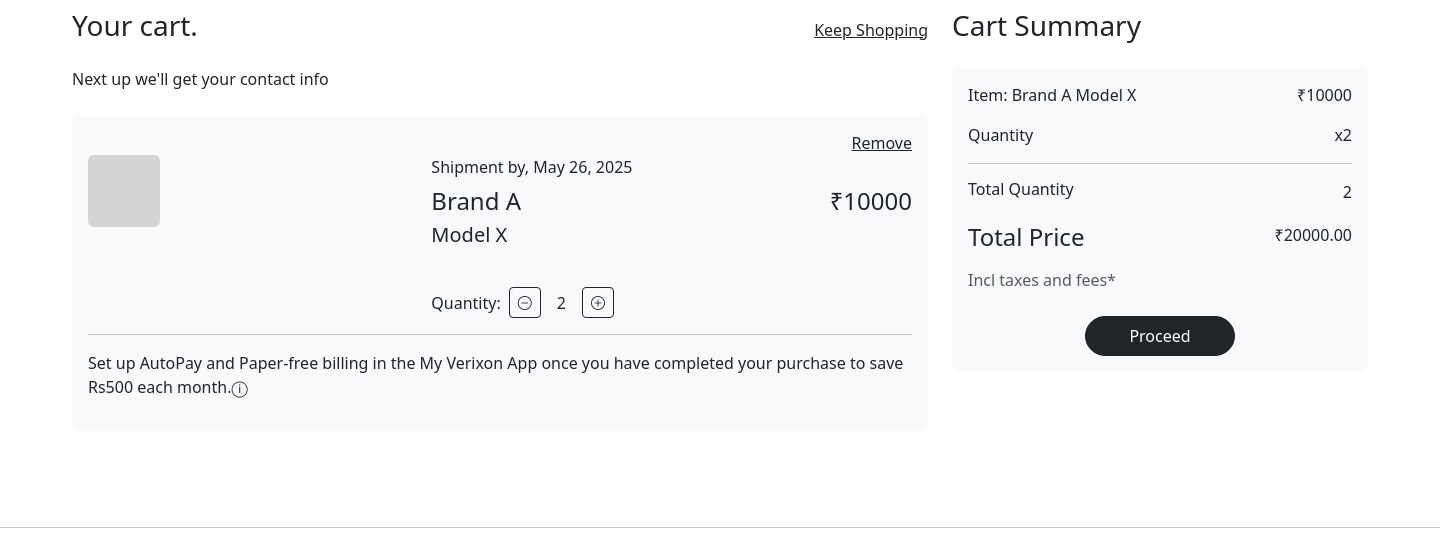
Test: Cart Component › should remove item from cart when 'Remove' button is clicked
This screenshot has width=1440, height=545.
Click the 'Remove' button
Click the link "Remove" at (882, 143), box top-left (852, 131), bottom-right (912, 155)
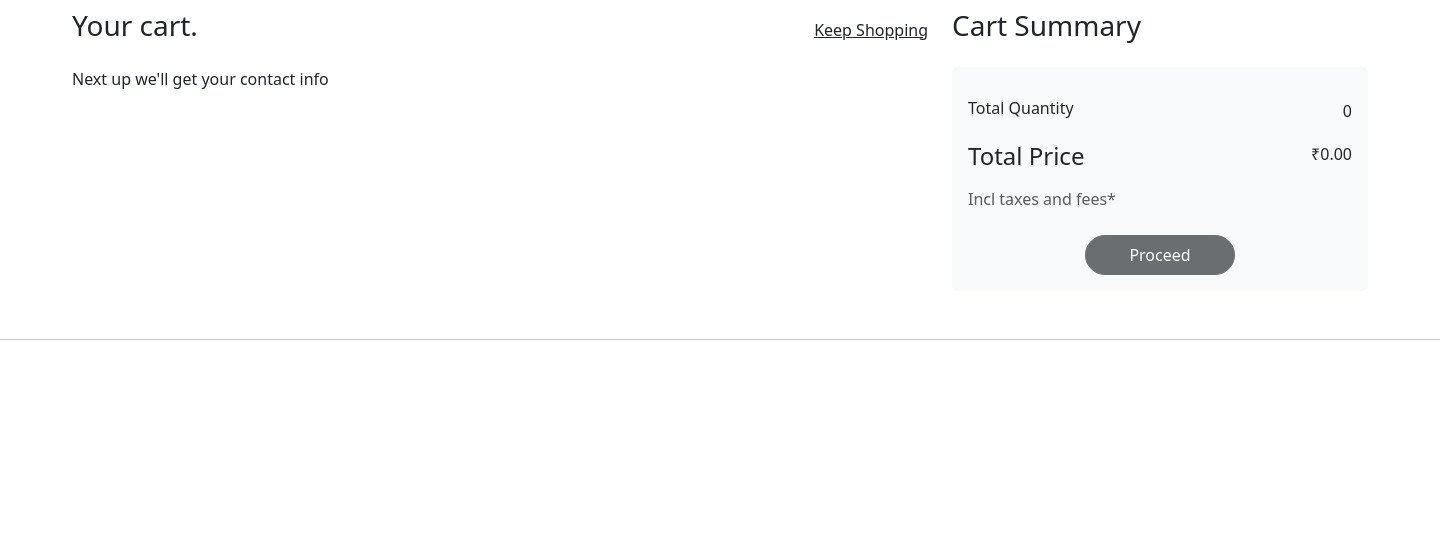
Expected: the text "Brand A Model X" is gone
